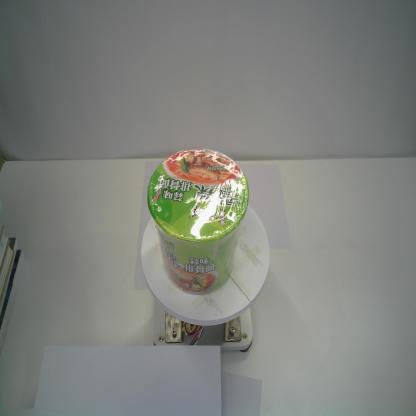Instant Noodles: (147, 147, 251, 296)
